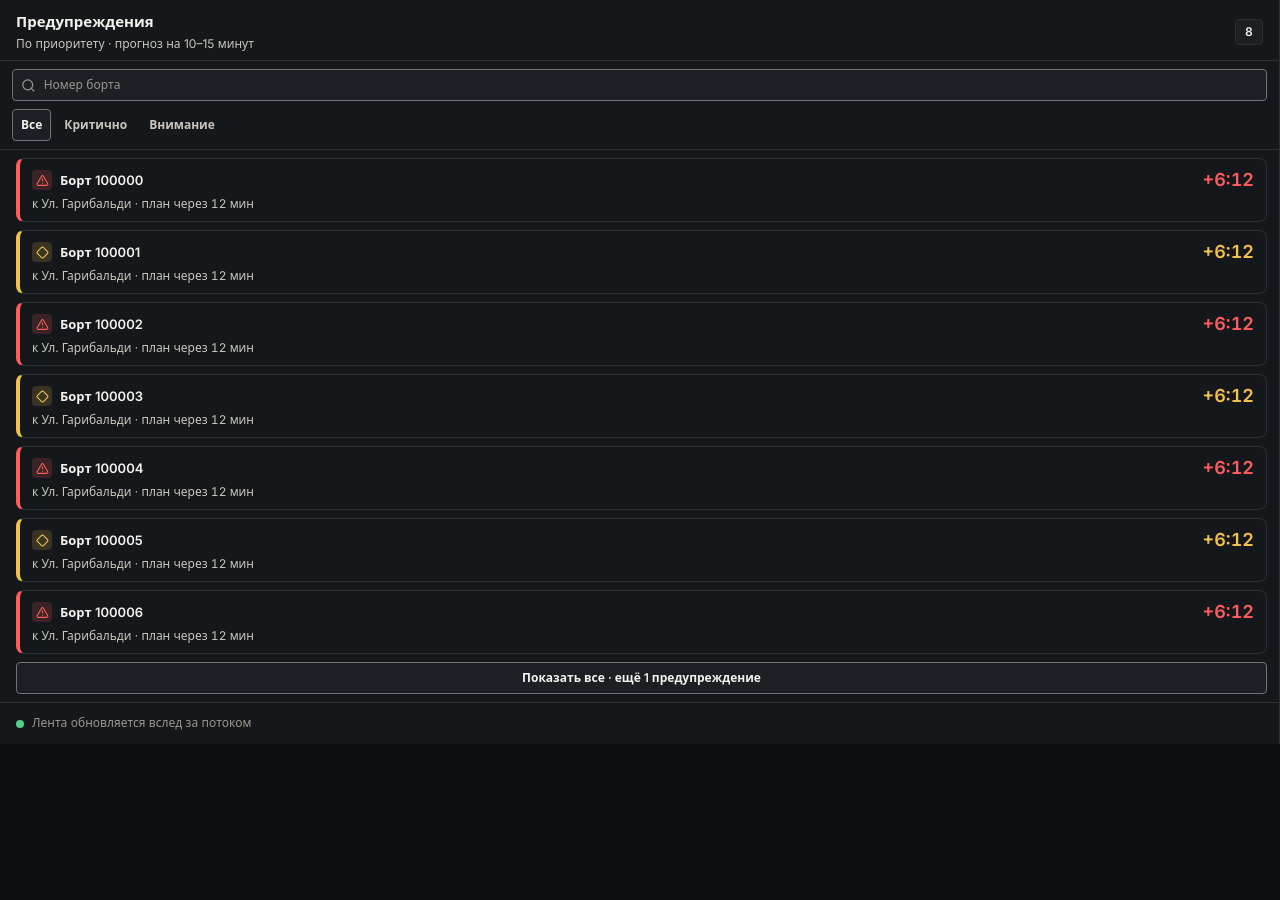
Scenario: AlertList › filters by risk and vehicle number without changing the total
This screenshot has width=1280, height=900.
Click the button "Внимание" at (182, 125), box x1=140 y1=109 x2=224 y2=141
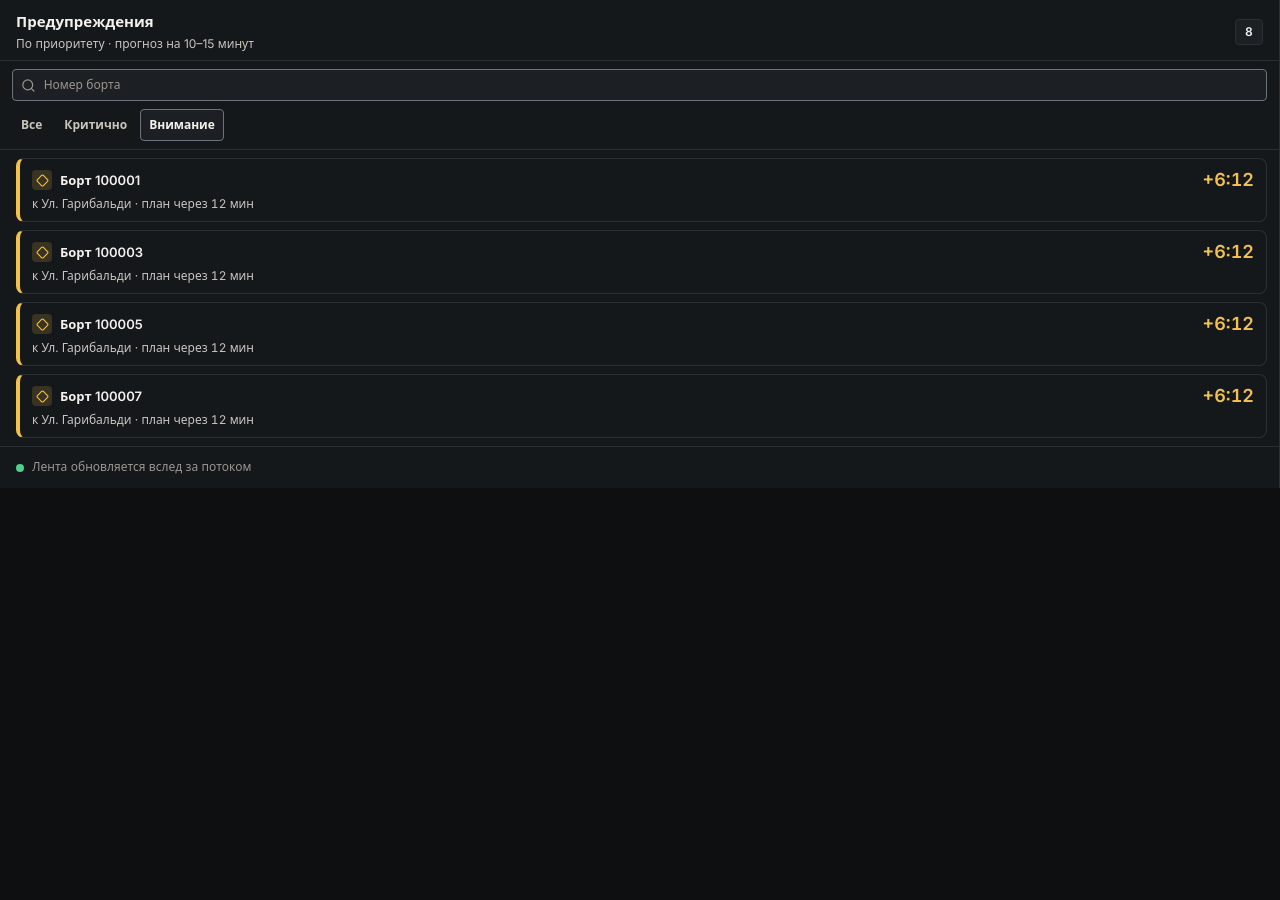
Expected: the text "8" is shown, x1=1235 y1=19 x2=1263 y2=45
Expected: the number of buttons "Борт 100001 +6:12 к Ул. Гарибальди · план через 12 мин" is 4, x1=16 y1=158 x2=1267 y2=222; x1=16 y1=230 x2=1267 y2=294; x1=16 y1=302 x2=1267 y2=366; x1=16 y1=374 x2=1267 y2=438
Click the button "Все" at (32, 125), box x1=12 y1=109 x2=51 y2=141
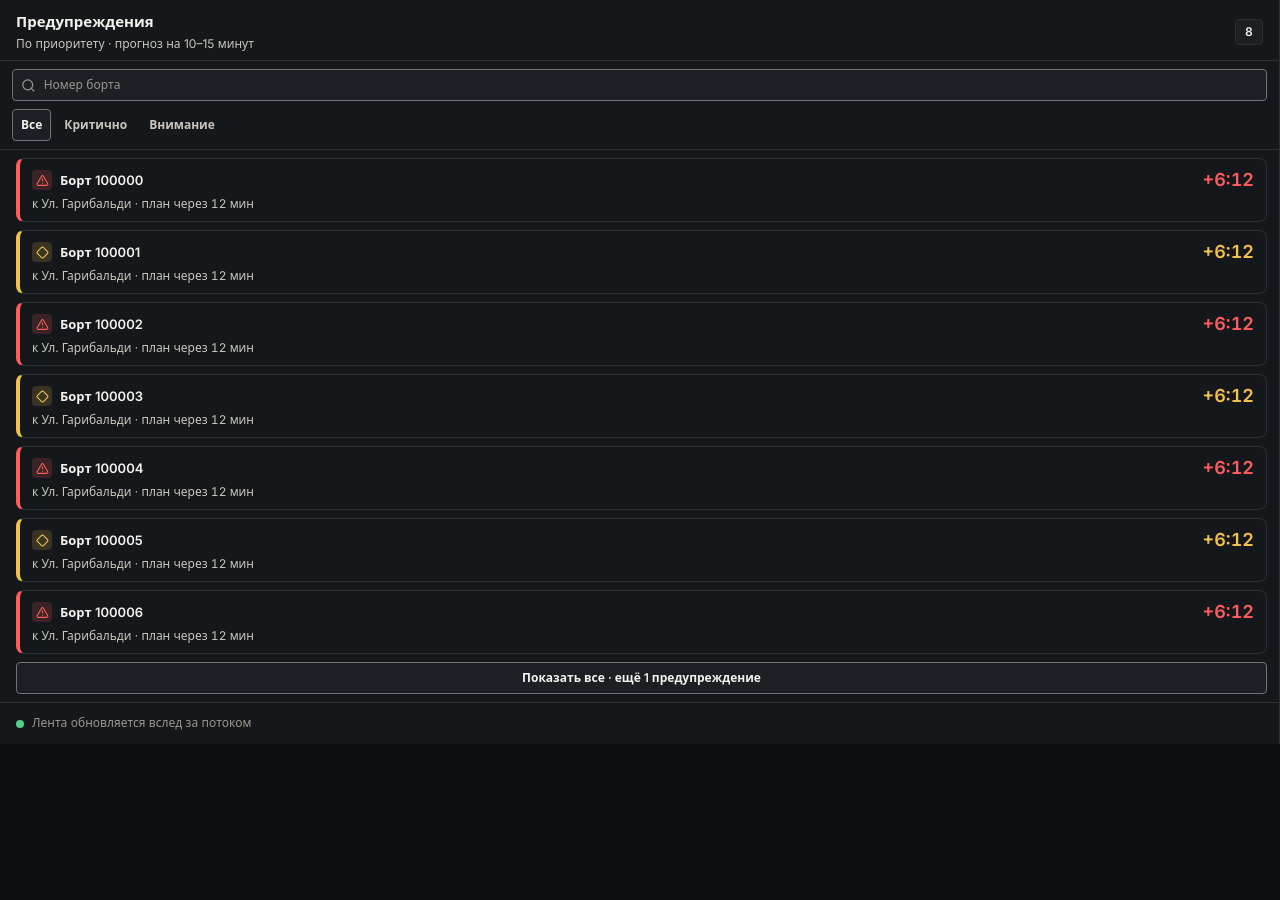
Type "100005" into the search field named "Поиск борта по номеру" at (651, 85), box x1=44 y1=73 x2=1258 y2=97
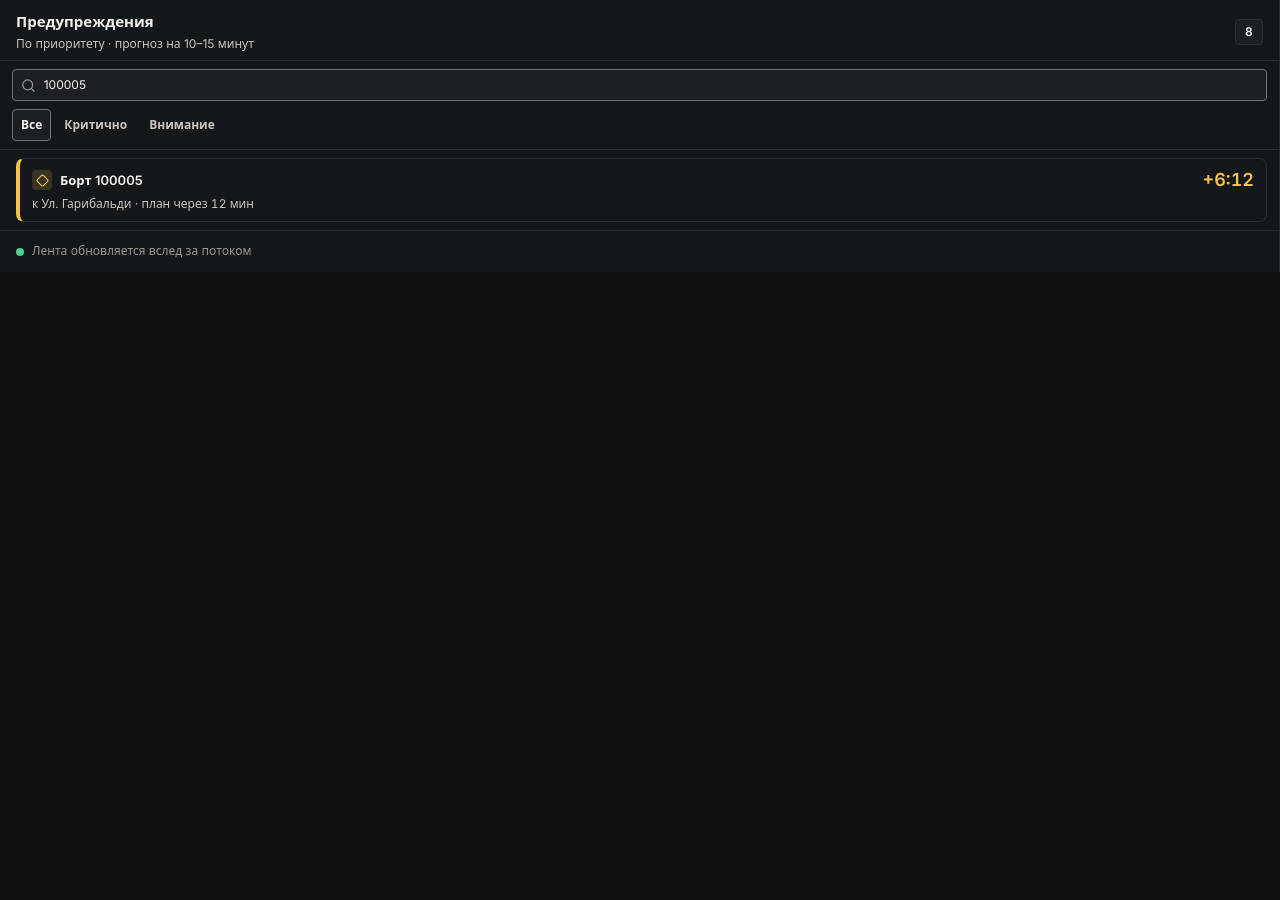
Expected: the number of buttons "Борт 100005 +6:12 к Ул. Гарибальди · план через 12 мин" is 1, x1=16 y1=158 x2=1267 y2=222
Replace the text in the search field named "Поиск борта по номеру" with "424242" at (651, 85), box x1=44 y1=73 x2=1258 y2=97
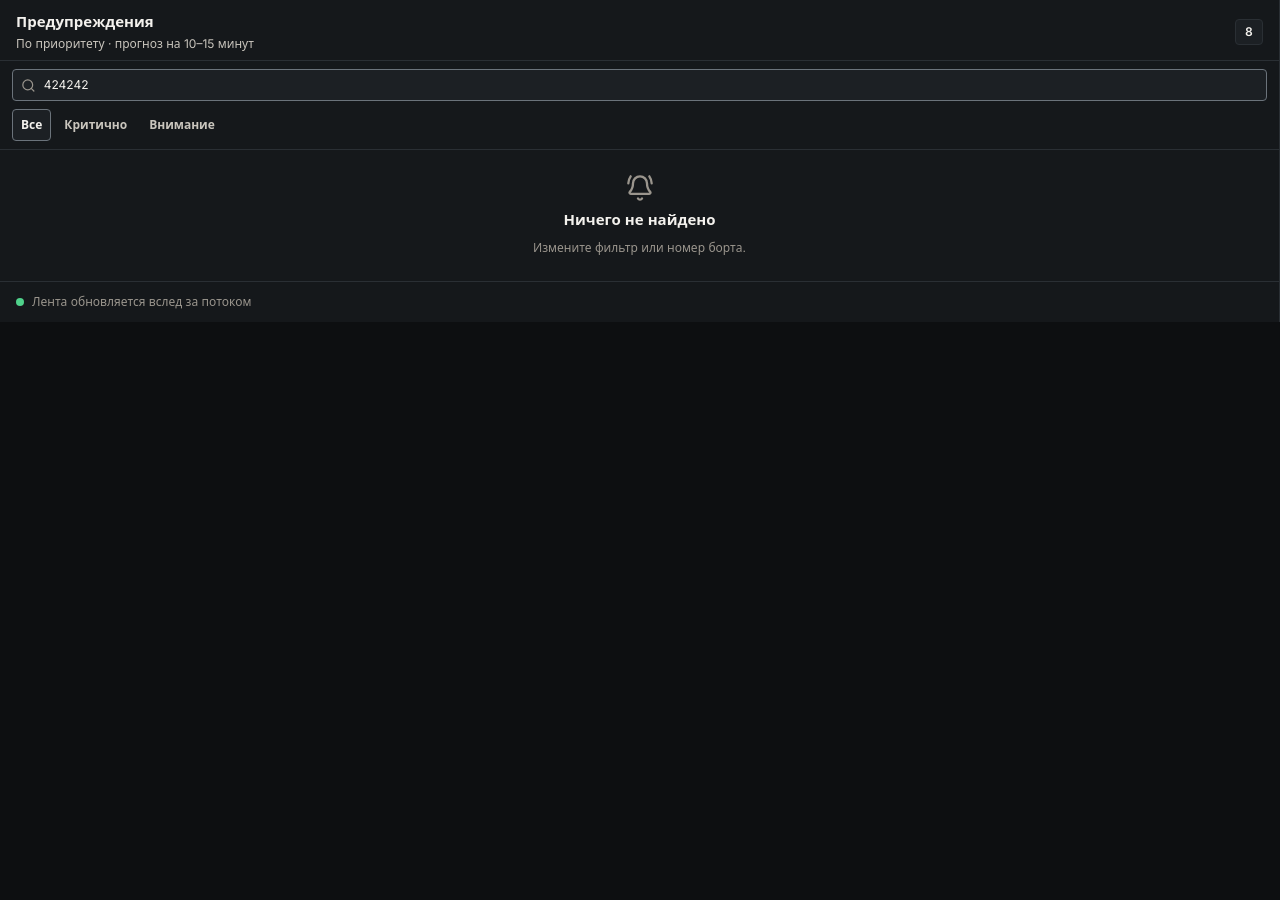
Expected: the text "Ничего не найдено" is shown, x1=564 y1=210 x2=716 y2=231
